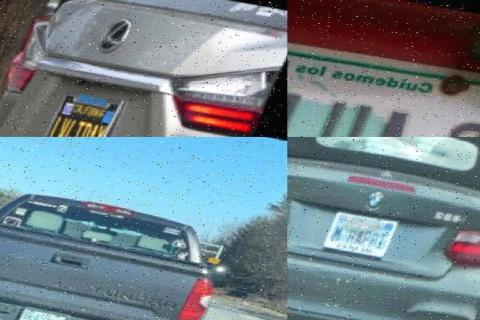LicensePlate: (287, 53, 480, 137), (36, 89, 124, 137), (322, 208, 402, 260), (19, 303, 76, 319)
